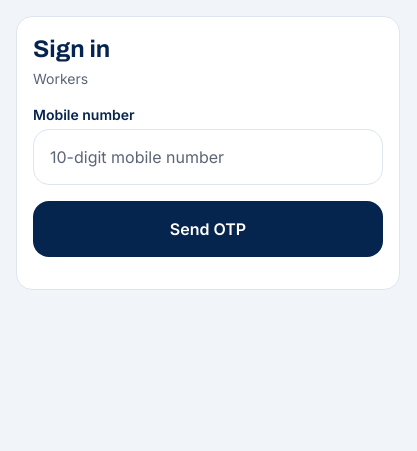
Scenario: OtpLogin › shows an error and stays on the code step for a wrong code
Type "9876543210" into the field labelled "Mobile number".
click(208, 157); type("9876543210")  # box [33,129,383,185]
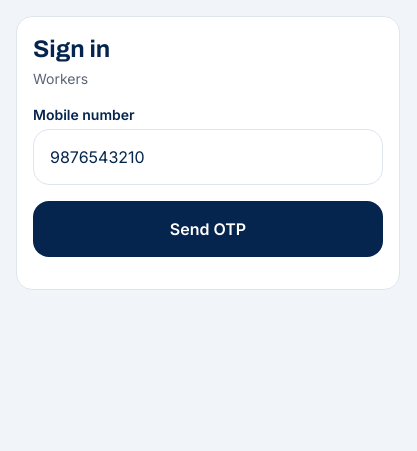
Click the button "Send OTP".
click(208, 229)  # box [33,201,383,257]
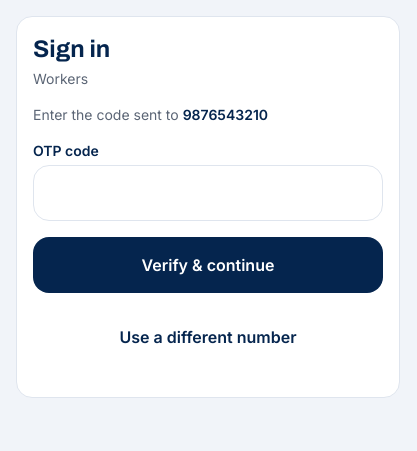
Type "000000" into the field labelled "OTP code".
click(208, 193); type("000000")  # box [33,165,383,221]
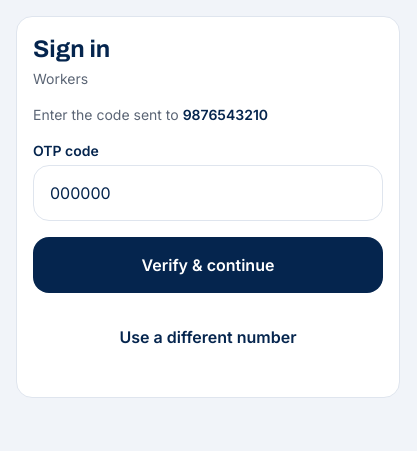
Click the button "Verify & continue".
click(208, 265)  # box [33,237,383,293]
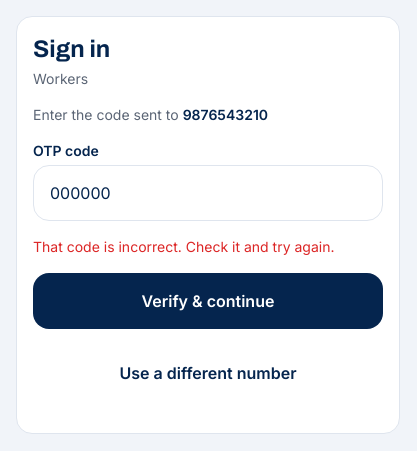
Check: the text "That code is incorrect. Check it and try again." is shown, box [33,237,383,257]
